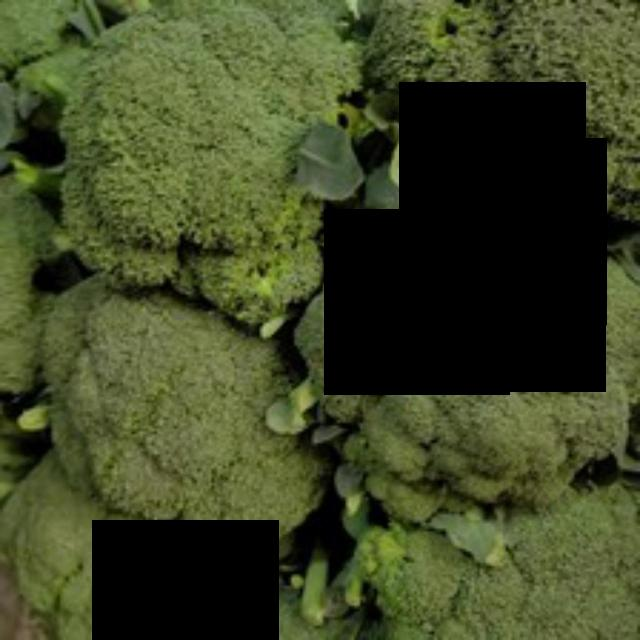broccoli: (47, 3, 350, 324)
